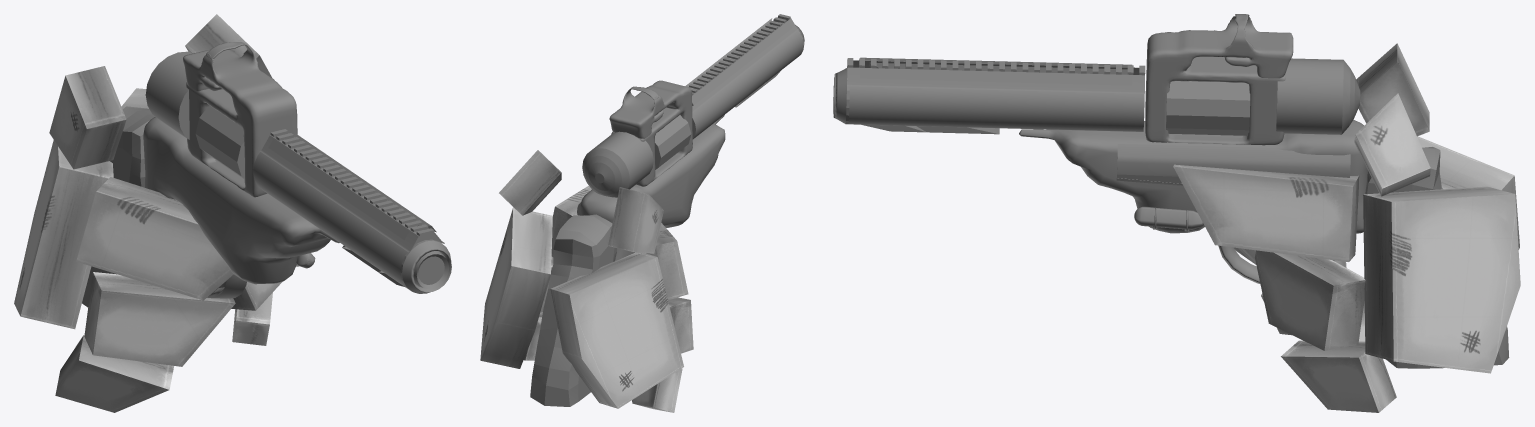
The model's file is GDC-ANI-main-hands-shot-BAKED.fbx.
3 renders of one model, left to right at view 1: azimuth 30°, elevation 25°; view 2: azimuth 150°, elevation 25°; view 3: azimuth 270°, elevation 25°, orthographic. The views are drawn at different scales.
Parts seen in each view (by area): view 1: pasted__pasted__hand_palm2; view 2: pasted__pasted__hand_palm2; view 3: pasted__pasted__hand_palm2.
Part boxes in pixels (left/top/right/bottom): pasted__pasted__hand_palm2: left=14, top=14, right=451, bottom=412; pasted__pasted__hand_palm2: left=480, top=14, right=804, bottom=412; pasted__pasted__hand_palm2: left=833, top=14, right=1520, bottom=412.
Bounding box in the file's own units: 0.9658 × 1.31 × 2.1.
